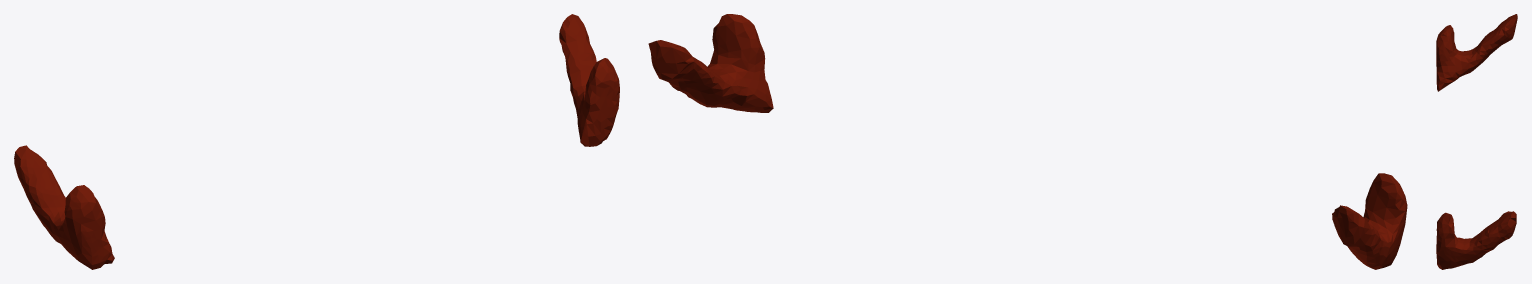
Rendered from 116-ST3-superior temporal sulcus area 3-('0.4980', '0.0941', '0.0000').obj.
3 renders of one model, left to right at view 1: azimuth 30°, elevation 25°; view 2: azimuth 150°, elevation 25°; view 3: azimuth 270°, elevation 25°, orthographic. The views are drawn at different scales.
Size of the model in its own units: 357 by 53.97 by 60.16.
